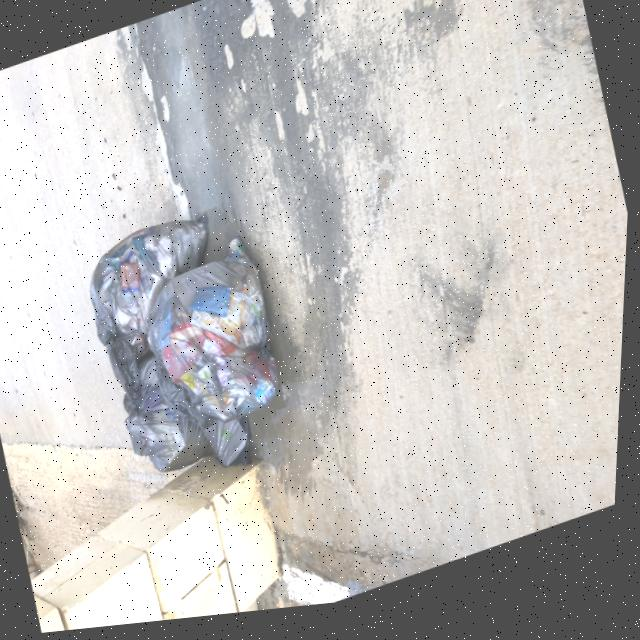Mixed Waste -Black Bag-: (133, 235, 301, 450), (110, 326, 270, 511), (77, 212, 230, 366)
